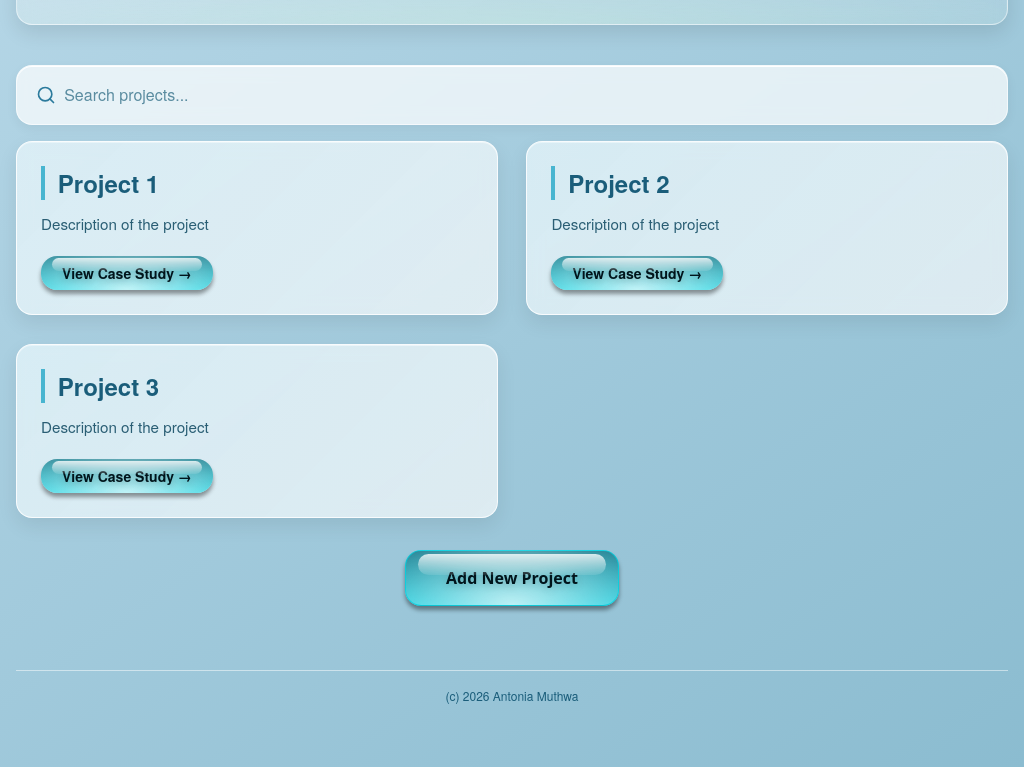
it: Aero Studio Portfolio › adds a new project via form submission
(page scrolled)
// Open form
Click the button "Add New Project": (512, 578) [405, 550, 619, 606]
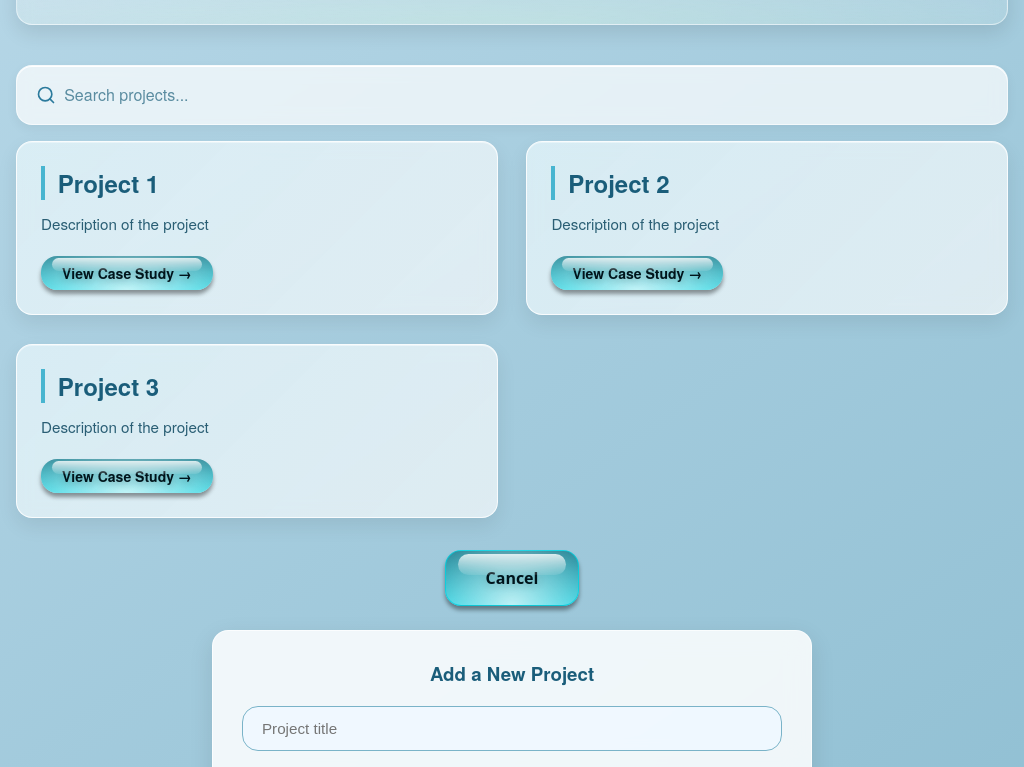
// Fill form
In the field with placeholder "Project title": (512, 729) [242, 706, 782, 751], type "Test Project"
(page scrolled)
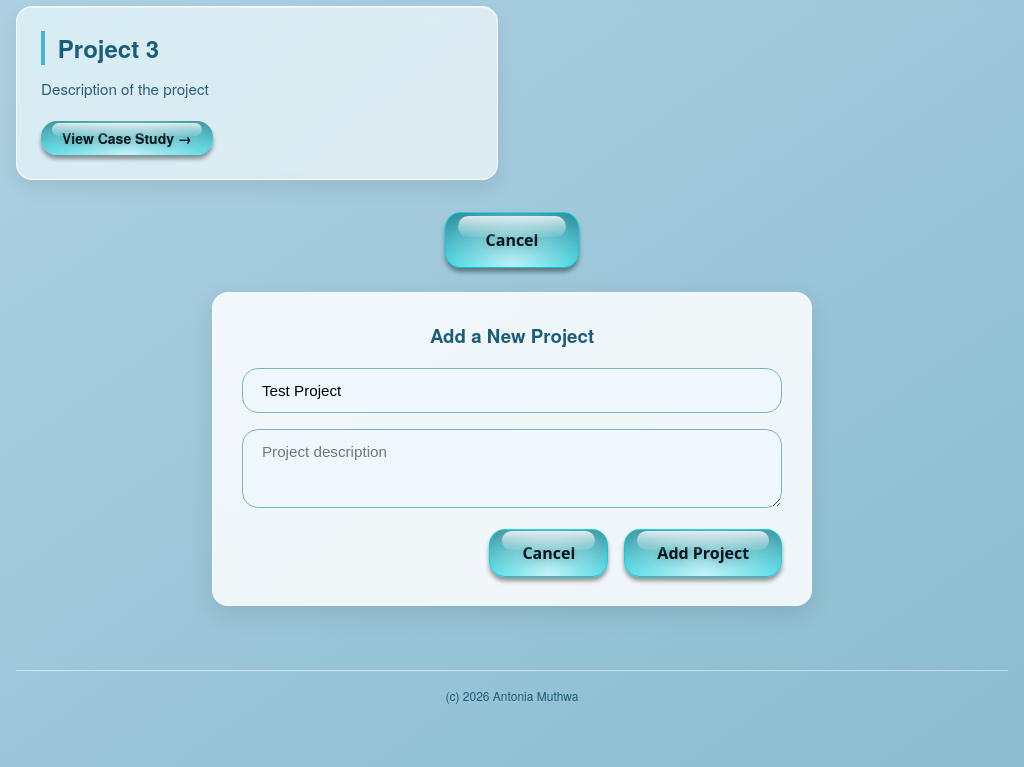
In the text box with placeholder "Project description": (512, 468) [242, 429, 782, 508], type "Test Description"
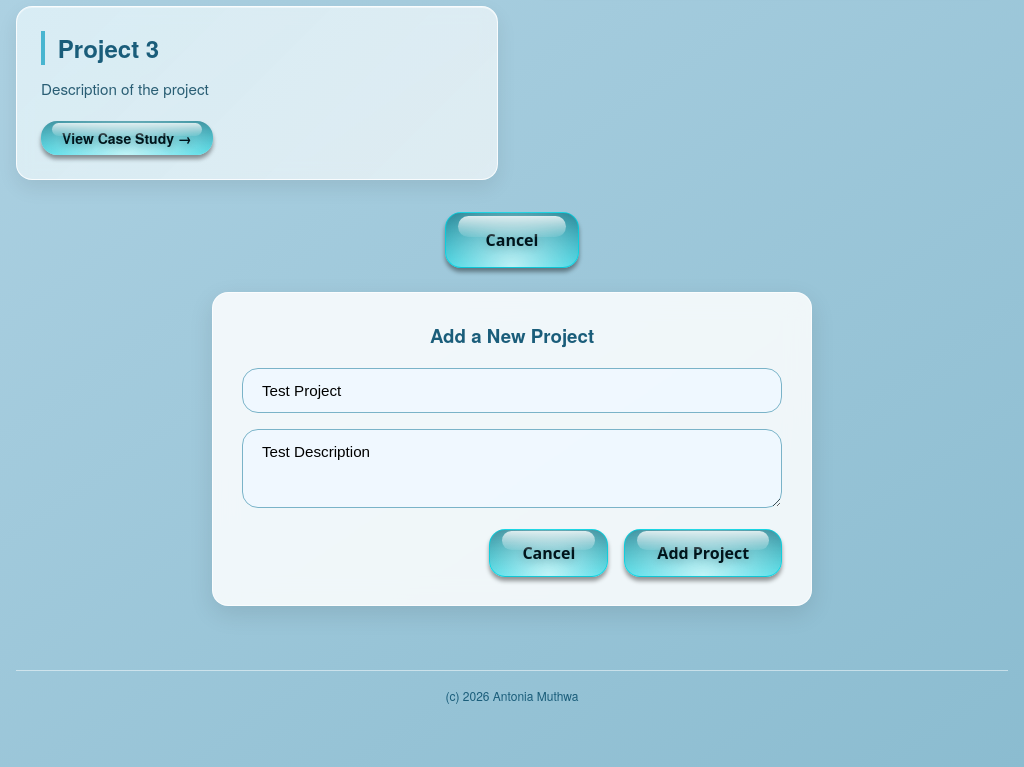
Click the button "Add Project": (703, 552) [624, 528, 782, 576]
(page scrolled)
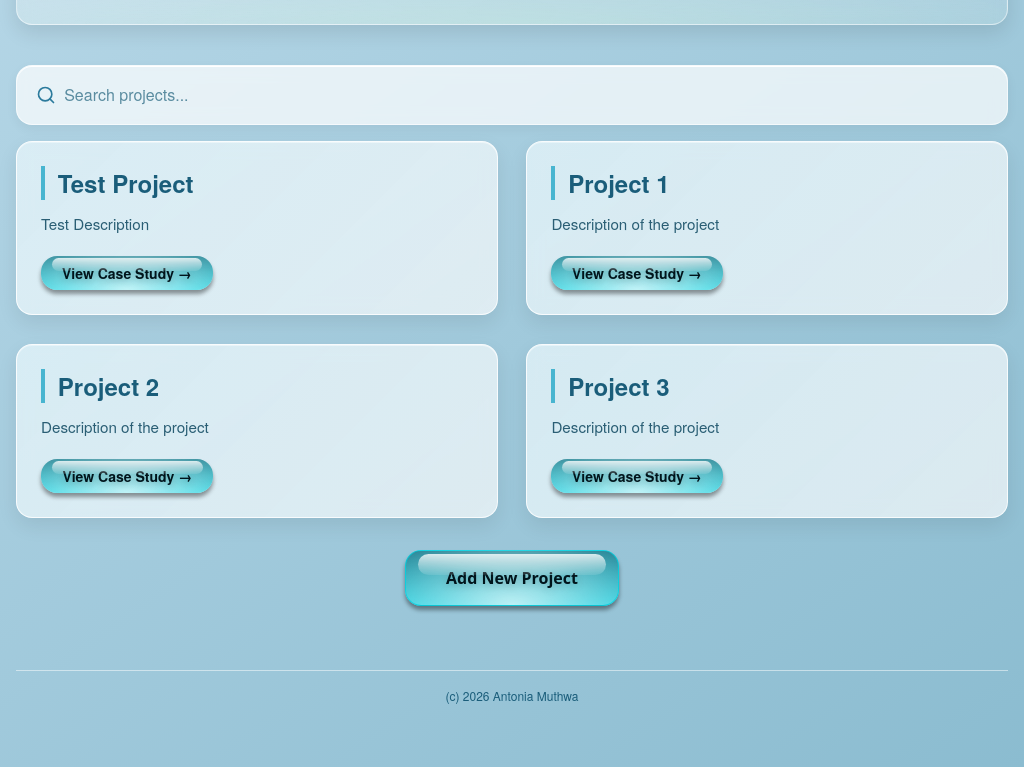
Check: the heading "Test Project" is shown, box [41, 166, 473, 200]
